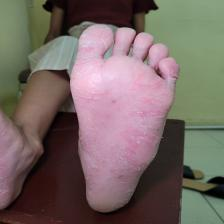Dermatitis kontak alergi: (83, 26, 176, 154), (86, 156, 152, 212)
